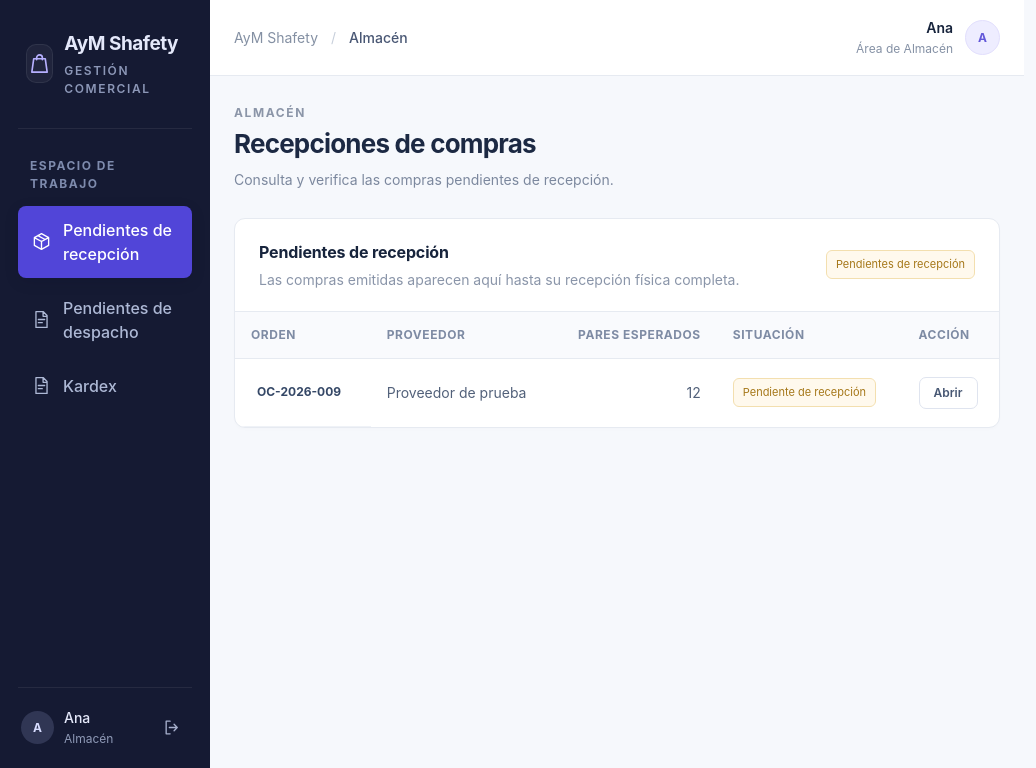
Scenario: permite a Almacén navegar entre recepción y despacho con botones separados
Check: the column heading "OC-2026-009" is shown, box [235,358,371,426]
Click the link with aria-label "Abrir recepción OC-2026-009": click(948, 392) [918,376,978,408]
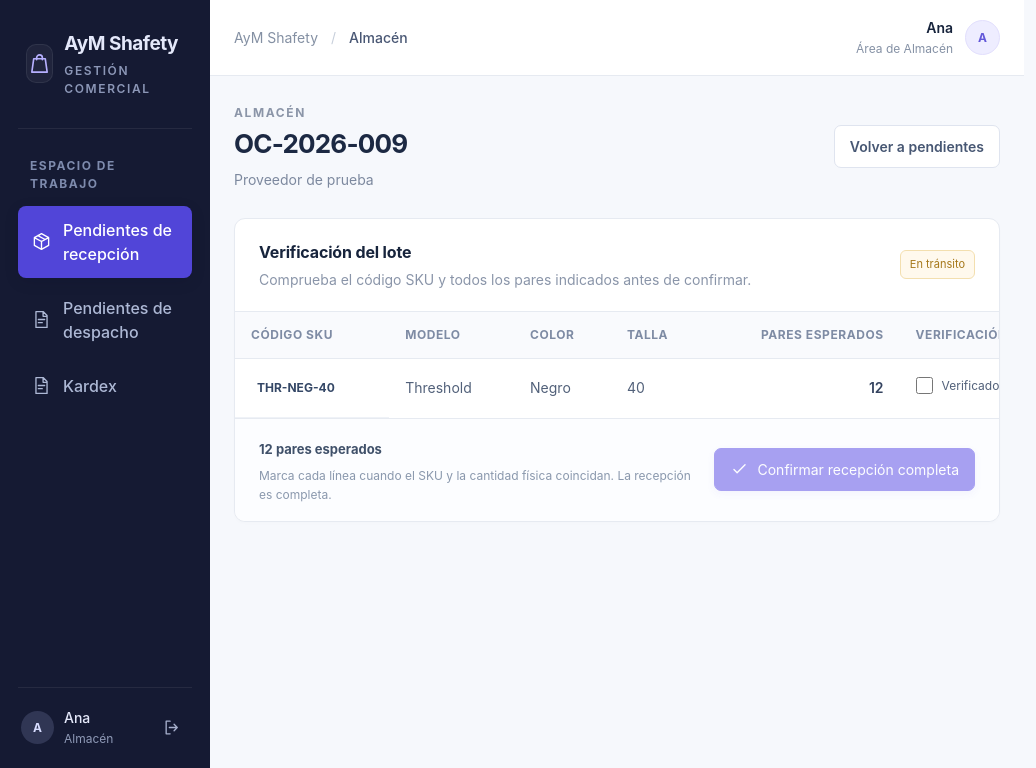
Check: the row "THR-NEG-40 Threshold Negro 40 12 Verificado" is shown, box [235,358,999,417]
Click the link "Pendientes de despacho": click(102, 320) [32,298,172,342]
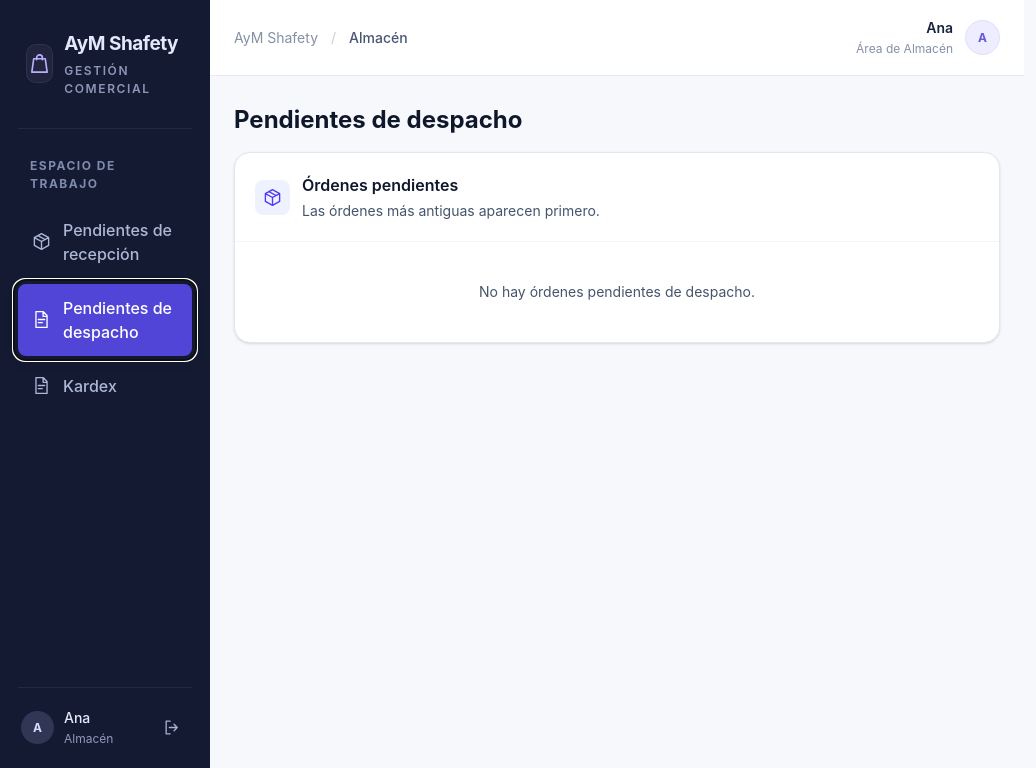
Check: the heading "Pendientes de despacho" is shown, box [234,104,522,136]
Click the link "Pendientes de recepción": click(102, 242) [32,220,172,264]
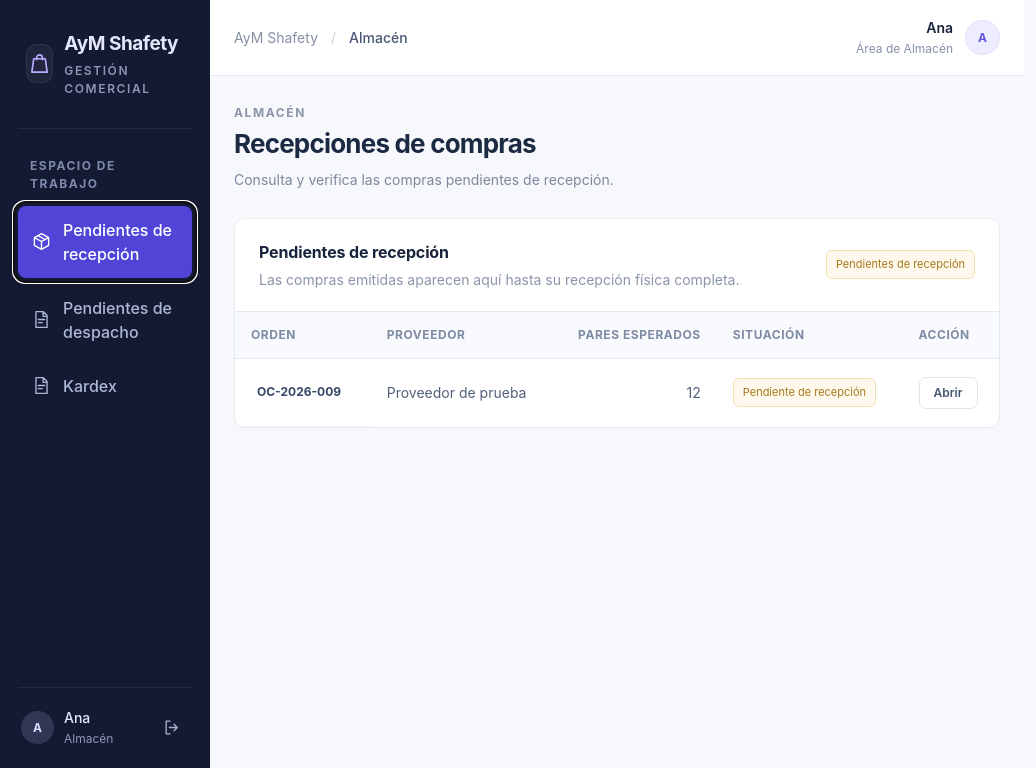
Check: the column heading "OC-2026-009" is shown, box [235,358,371,426]
